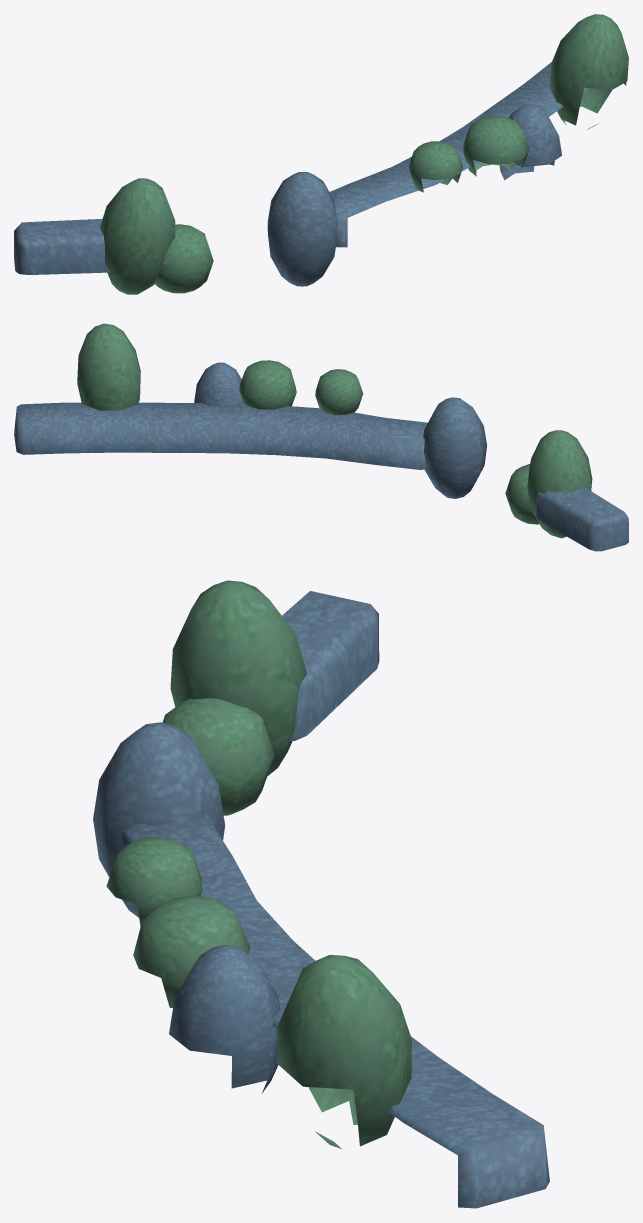
File: pref_sm_beach_bk_winter_pointmol_longplant_L03_lv0.fbx
3 renders of one model, top to bottom at view 1: azimuth 30°, elevation 25°; view 2: azimuth 150°, elevation 25°; view 3: azimuth 270°, elevation 25°, orthographic. The views are drawn at different scales.
Parts seen in each view (by area): view 1: pref_sm_beach_bk_winter_pointmol_longplant_L03_lv0; view 2: pref_sm_beach_bk_winter_pointmol_longplant_L03_lv0; view 3: pref_sm_beach_bk_winter_pointmol_longplant_L03_lv0.
Boxes of the visible parts, x1,y1,x2,y2 form: pref_sm_beach_bk_winter_pointmol_longplant_L03_lv0: [14, 14, 628, 294]; pref_sm_beach_bk_winter_pointmol_longplant_L03_lv0: [14, 323, 628, 551]; pref_sm_beach_bk_winter_pointmol_longplant_L03_lv0: [93, 580, 549, 1208].
Bounding box in the file's own units: 28.28 × 6.21 × 9.76.
